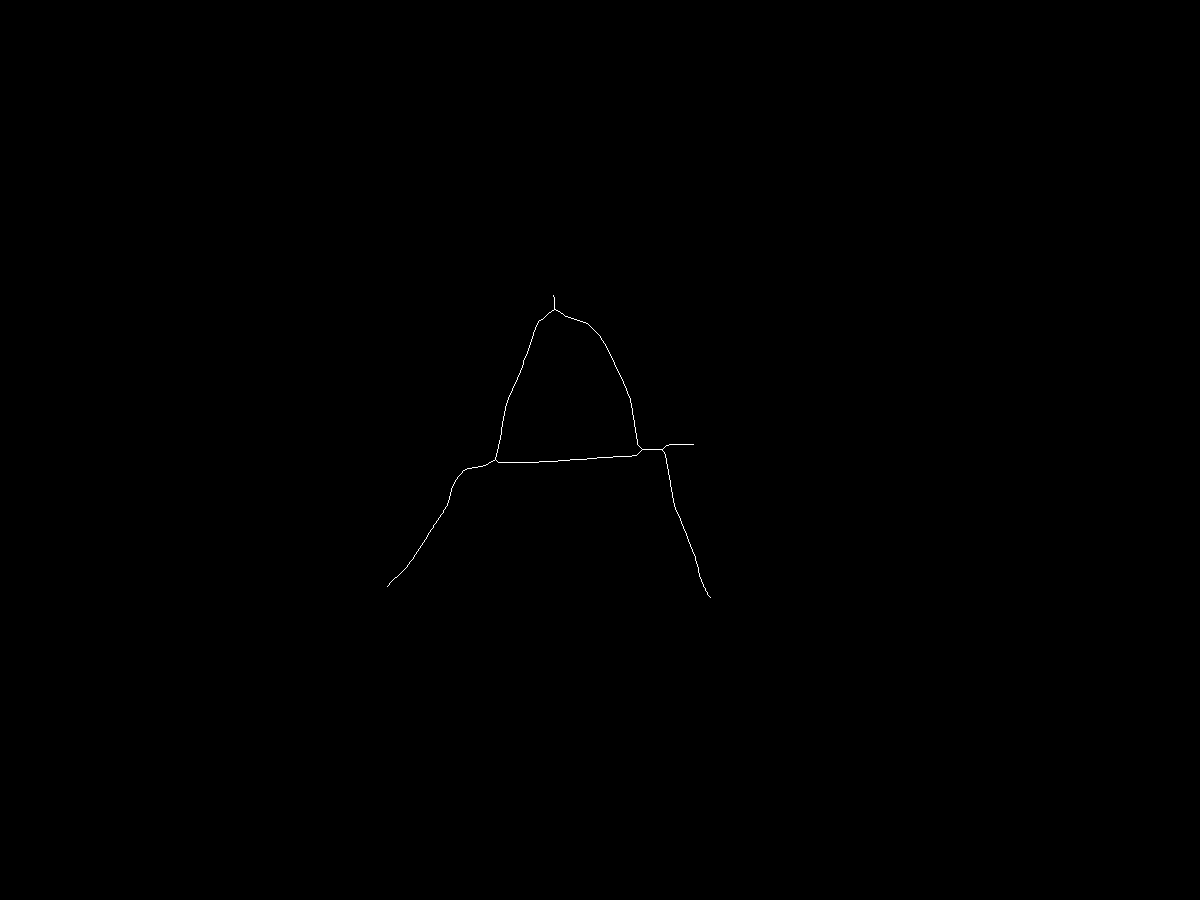dian1: (549, 309, 564, 324)
dian2: (486, 453, 504, 471)
dian3: (382, 581, 396, 595)
dian4: (650, 445, 670, 465)
dian5: (701, 590, 717, 606)
